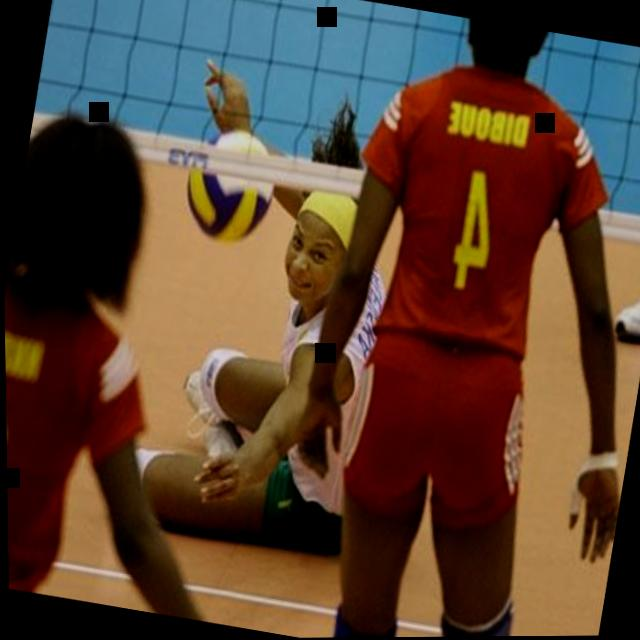Fall-Detected: (100, 124, 432, 619)
